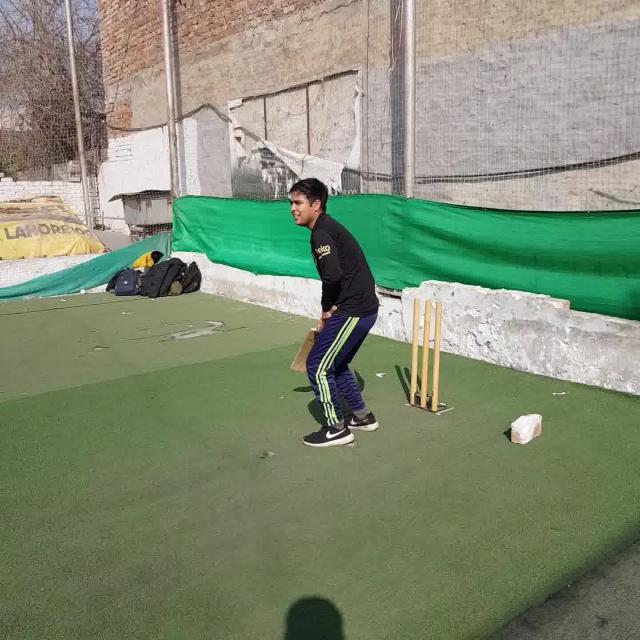bat: (292, 306, 338, 372)
